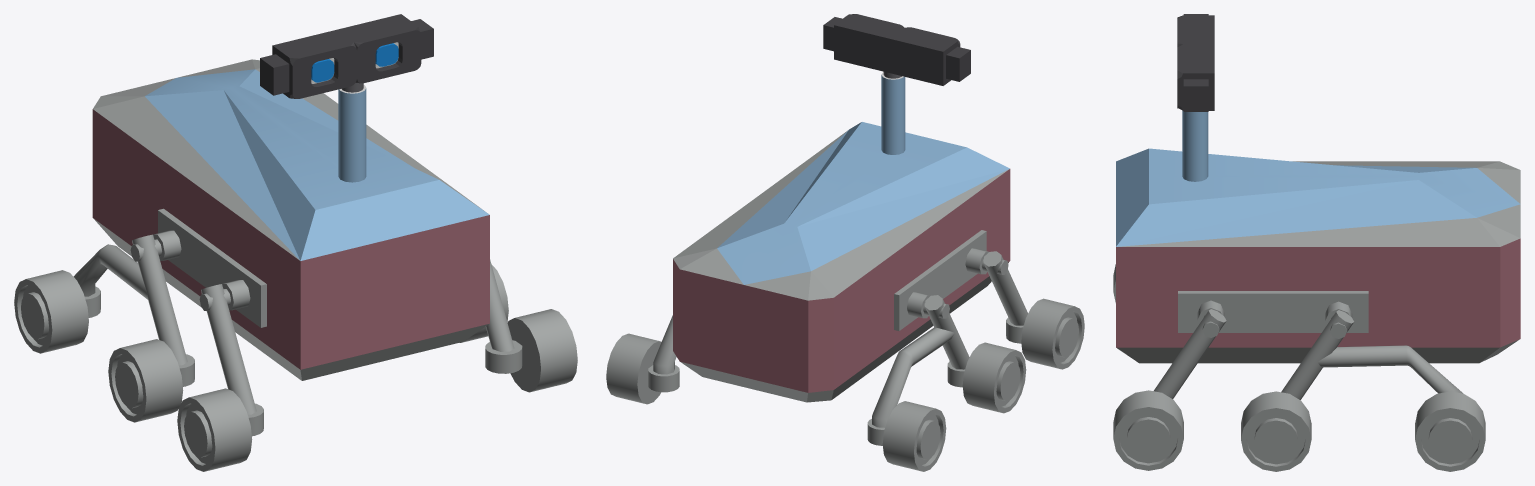
The model's file is RT.Rover.fbx.
3 renders of one model, left to right at view 1: azimuth 30°, elevation 25°; view 2: azimuth 150°, elevation 25°; view 3: azimuth 270°, elevation 25°, orthographic. The views are drawn at different scales.
Parts seen in each view (by area): view 1: Body, Head, Neck; view 2: Body, Head, Neck; view 3: Body, Head, Neck.
Part boxes in pixels (x1=…): Body: x1=14, y1=59, x2=577, y2=471; Head: x1=260, y1=14, x2=433, y2=98; Neck: x1=338, y1=83, x2=366, y2=182; Body: x1=606, y1=122, x2=1084, y2=471; Head: x1=823, y1=14, x2=970, y2=85; Neck: x1=881, y1=72, x2=905, y2=154; Body: x1=1113, y1=148, x2=1520, y2=471; Head: x1=1177, y1=14, x2=1214, y2=111; Neck: x1=1182, y1=110, x2=1208, y2=181.
Bounding box in the file's own units: 1.92 × 2.01 × 1.87.
